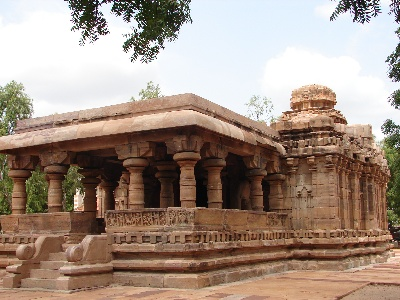mandapa: (24, 74, 290, 224)
